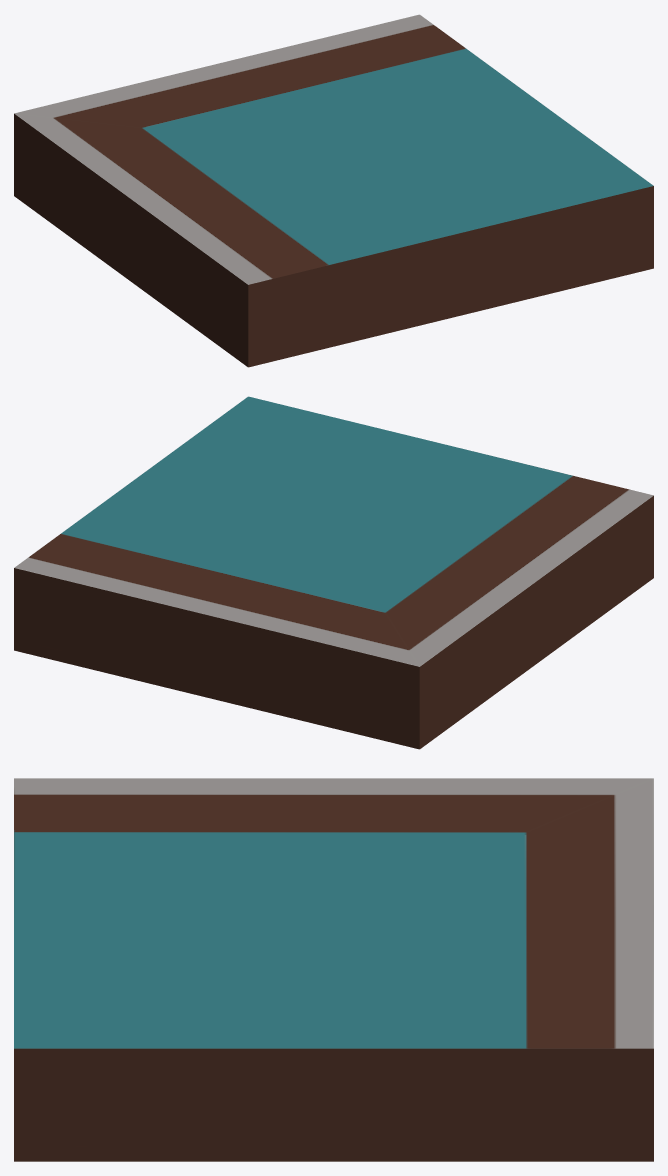
Rendered from MD_Tray_Green_Corner.fbx.
3 views of the same model, one above another, from view 1: azimuth 30°, elevation 25°; view 2: azimuth 150°, elevation 25°; view 3: azimuth 270°, elevation 25° (orthographic). The views are drawn at different scales.
Parts seen in each view (by area): view 1: Tray_Green_Corner; view 2: Tray_Green_Corner; view 3: Tray_Green_Corner.
Part boxes in pixels (x1,y1,x2,y2): Tray_Green_Corner: (14, 14, 653, 367); Tray_Green_Corner: (14, 396, 653, 749); Tray_Green_Corner: (14, 778, 653, 1161).
Size of the model in its own units: 4.38 by 0.8531 by 4.38.
